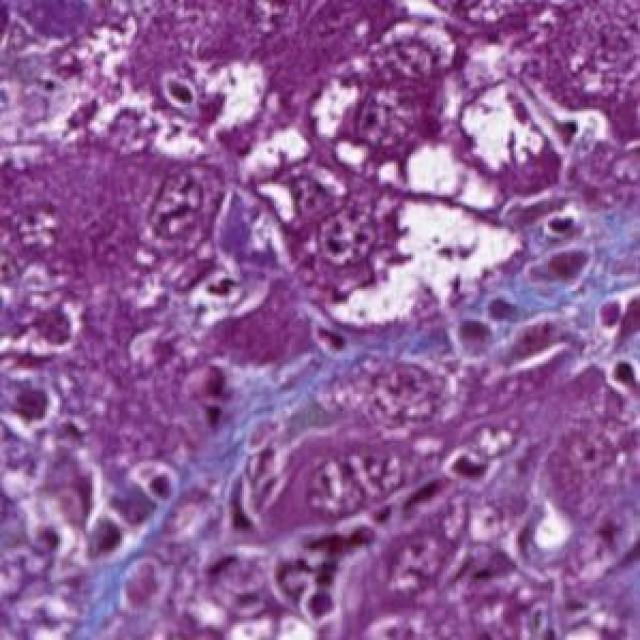inflammation: (270, 516, 381, 627), (148, 54, 257, 162)
